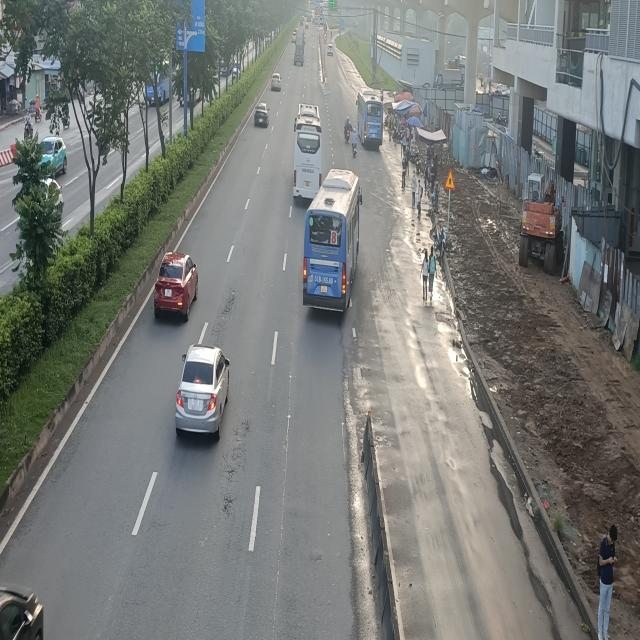car: (175, 344, 232, 438), (156, 255, 202, 322)
coach: (304, 167, 363, 310), (292, 104, 321, 203), (355, 87, 383, 148)
